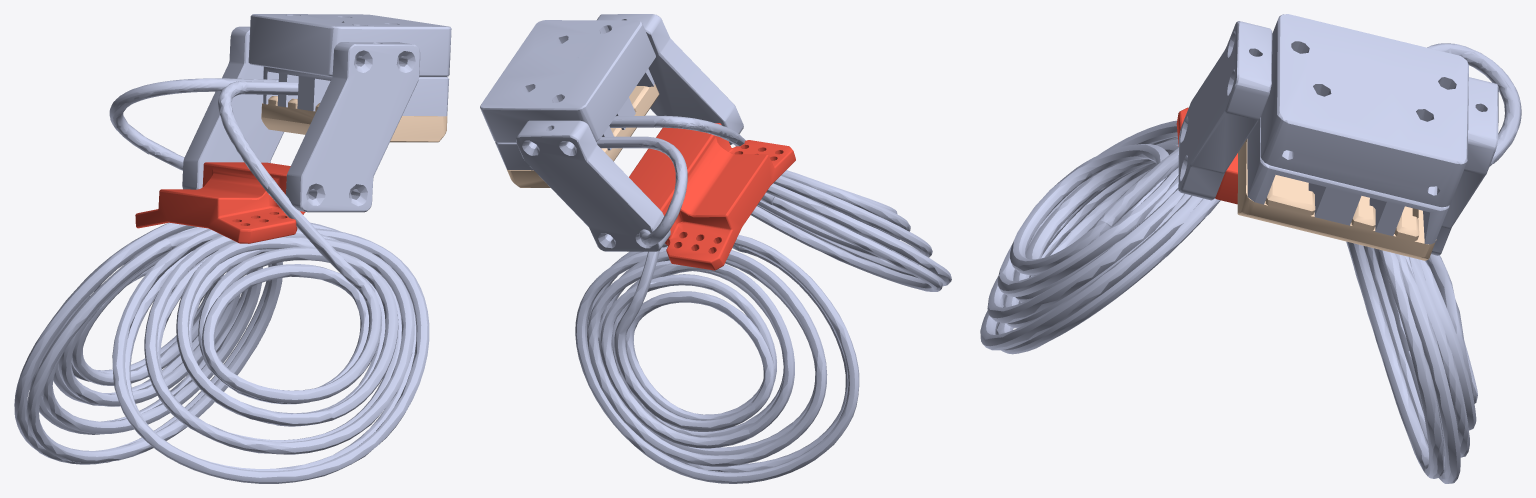
Rendered from h7reduced.FBX.
The picture shows the model from 3 angles, left to right: view 1: azimuth 30°, elevation 25°; view 2: azimuth 150°, elevation 25°; view 3: azimuth 270°, elevation 25°; orthographic projection. The views are drawn at different scales.
Parts seen in each view (by area): view 1: VIFS008, VIFS003, VIFS005, VIFS004, VIFS001, VIFS006, VIFS002, VIFS012, VIFS011, VIFS009, VIFS010; view 2: VIFS008, VIFS005, VIFS004, VIFS001, VIFS003, VIFS012, VIFS002, VIFS011, VIFS006; view 3: VIFS008, VIFS005, VIFS003, VIFS002, VIFS006, VIFS001, VIFS012, VIFS009, VIFS004.
Part boxes in pixels (box(x1,y1,x2,y2)): VIFS008: box(14, 222, 429, 483); VIFS003: box(286, 42, 420, 212); VIFS005: box(248, 14, 451, 76); VIFS004: box(135, 162, 305, 243); VIFS001: box(182, 26, 283, 189); VIFS006: box(263, 66, 449, 116); VIFS002: box(261, 96, 447, 142); VIFS012: box(109, 78, 278, 154); VIFS011: box(218, 81, 298, 195); VIFS009: box(218, 81, 366, 290); VIFS010: box(112, 78, 278, 249); VIFS008: box(575, 170, 951, 483); VIFS005: box(480, 20, 655, 142); VIFS004: box(629, 123, 795, 270); VIFS001: box(516, 120, 670, 251); VIFS003: box(597, 14, 743, 144); VIFS012: box(596, 136, 687, 246); VIFS002: box(506, 84, 659, 187); VIFS011: box(609, 115, 738, 143); VIFS006: box(495, 68, 654, 170); VIFS008: box(980, 120, 1477, 483); VIFS005: box(1260, 14, 1468, 207); VIFS003: box(1178, 21, 1272, 200); VIFS002: box(1237, 139, 1436, 260); VIFS006: box(1247, 117, 1449, 244); VIFS001: box(1431, 77, 1498, 255); VIFS012: box(1427, 43, 1521, 163); VIFS009: box(1098, 147, 1178, 227); VIFS004: box(1176, 107, 1237, 204).
Size of the model in its own units: 0.1833 by 0.1927 by 0.176.
